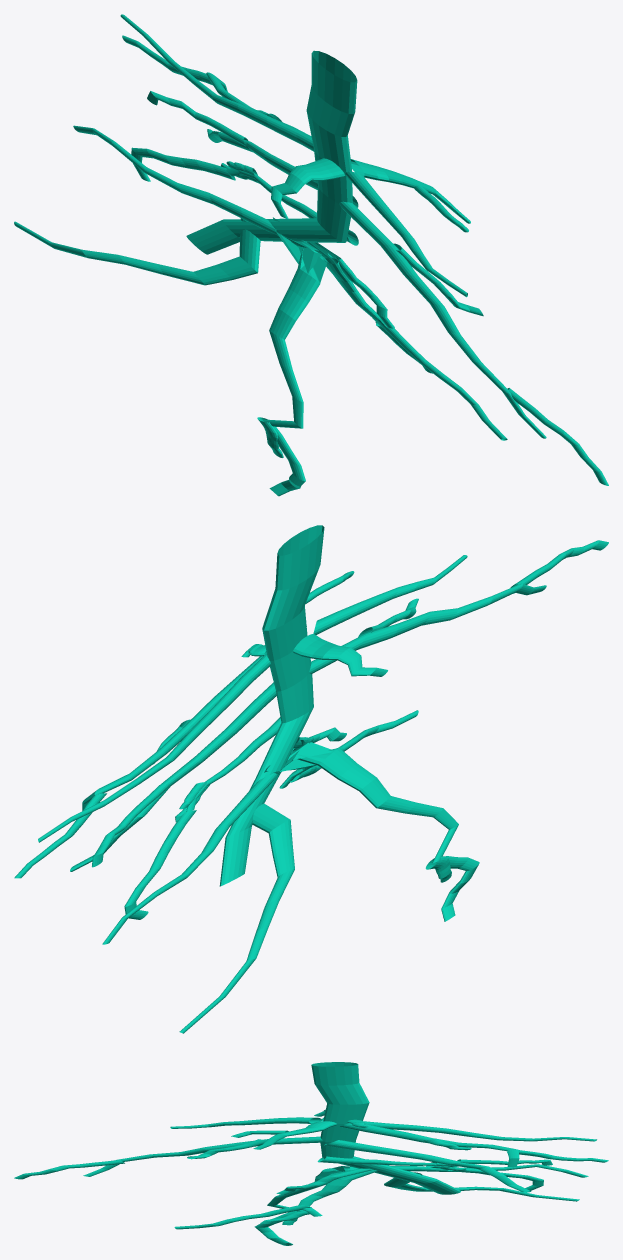
Rendered from coral.obj.
3 views of the same model, one above another, from view 1: azimuth 30°, elevation 25°; view 2: azimuth 150°, elevation 25°; view 3: azimuth 270°, elevation 25° (orthographic). The views are drawn at different scales.
Visible parts, largest first — view 1: Hair.1; view 2: Hair.1; view 3: Hair.1.
Boxes of the visible parts, bbox=[...] form: Hair.1: bbox=[14, 14, 608, 496]; Hair.1: bbox=[14, 525, 608, 1033]; Hair.1: bbox=[14, 1062, 608, 1245].
Size of the model in its own units: 71.19 by 149 by 383.
